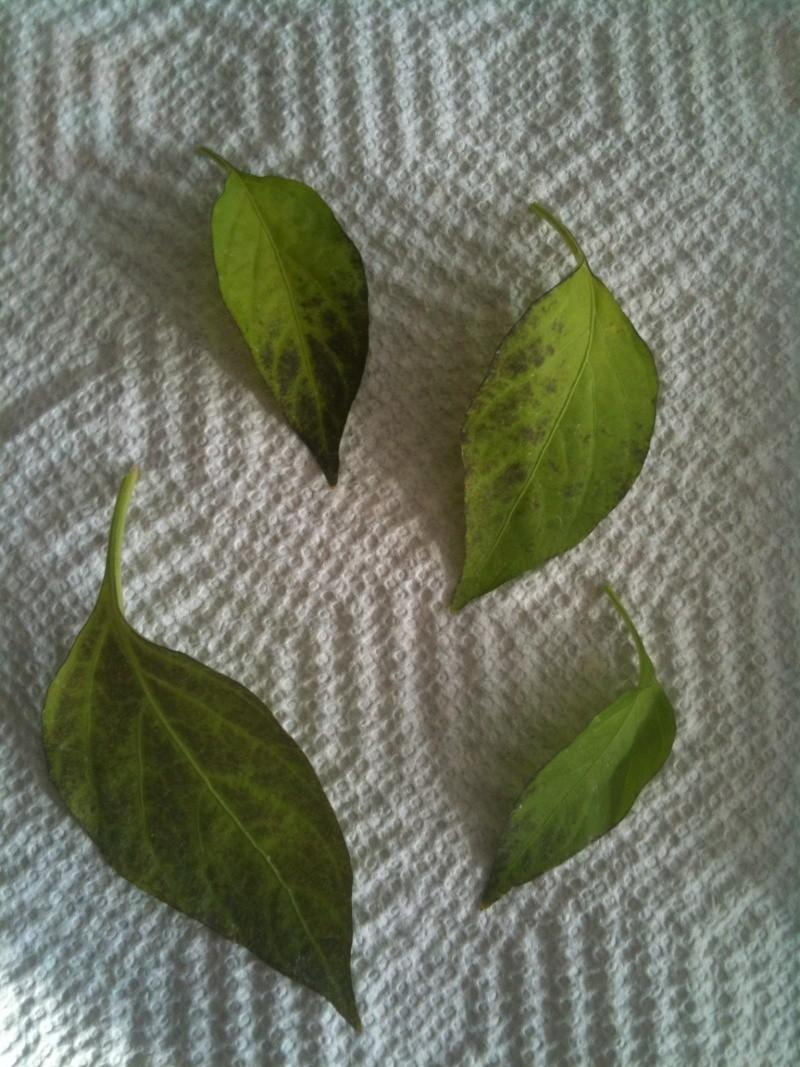Bell_pepper leaf spot: (41, 591, 379, 1033), (456, 241, 662, 606), (200, 171, 378, 487), (488, 678, 686, 919)
